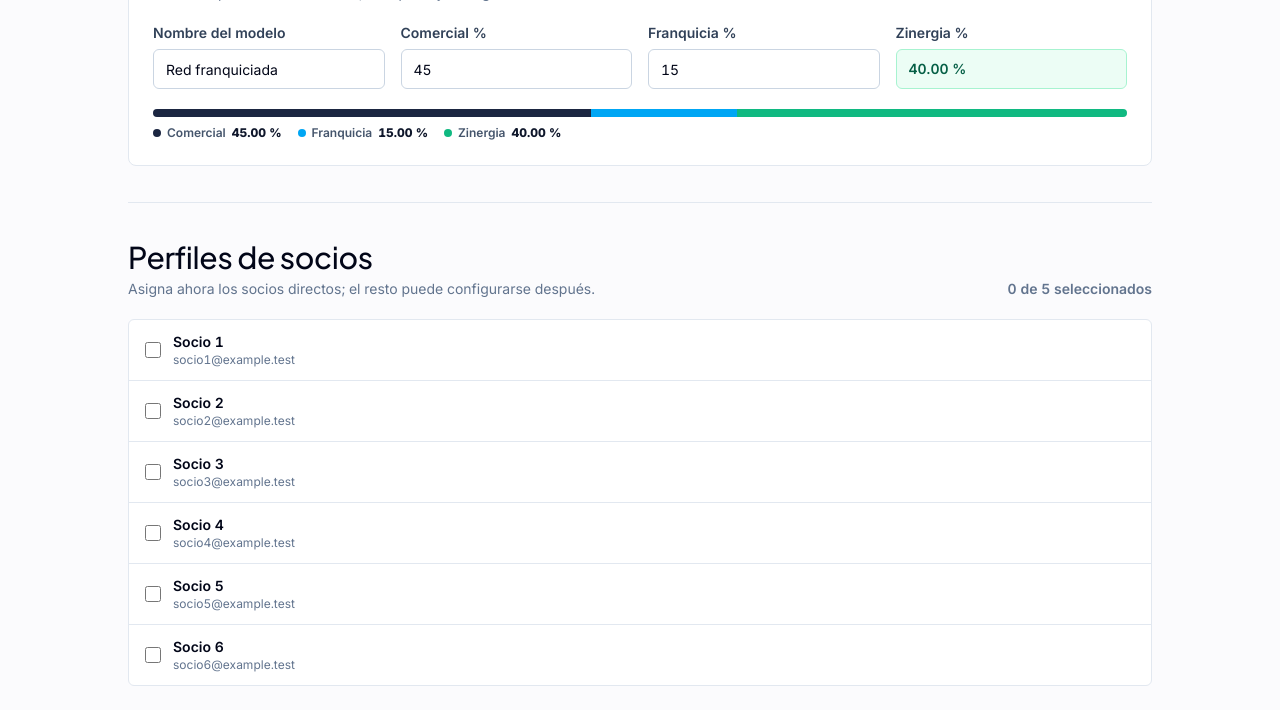
Scenario: CommissionModelSetup › limits direct-partner selection to five existing profiles
(page scrolled)
Click the checkbox labelled "Socio 1 socio1@example.test" at (153, 350), box [145,342,161,358]
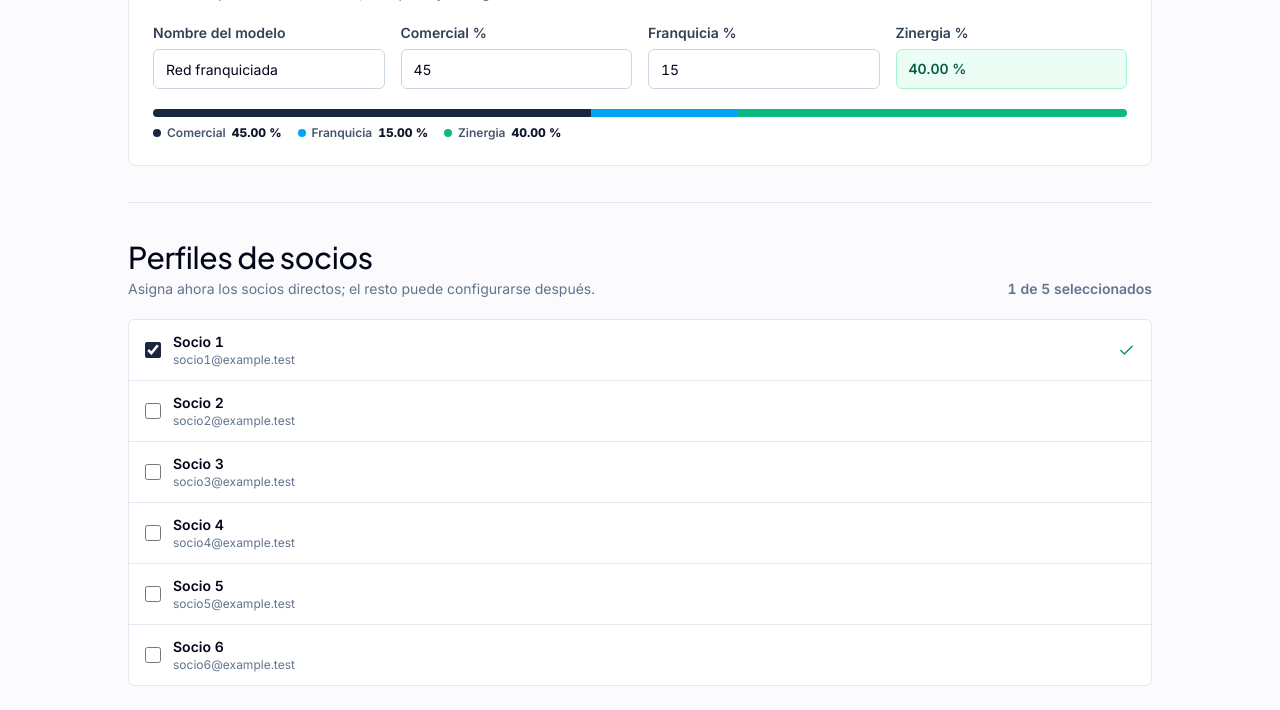
Click the checkbox labelled "Socio 2 socio2@example.test" at (153, 411), box [145,403,161,419]
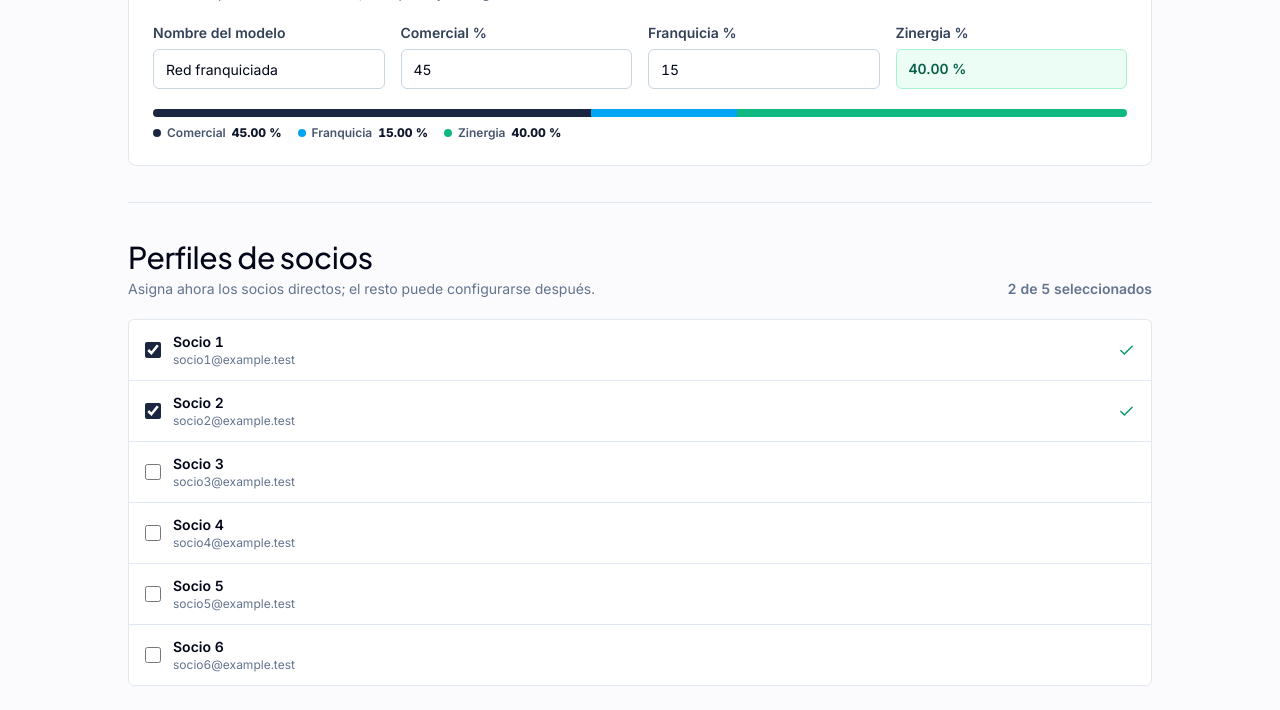
Click the checkbox labelled "Socio 3 socio3@example.test" at (153, 472), box [145,464,161,480]
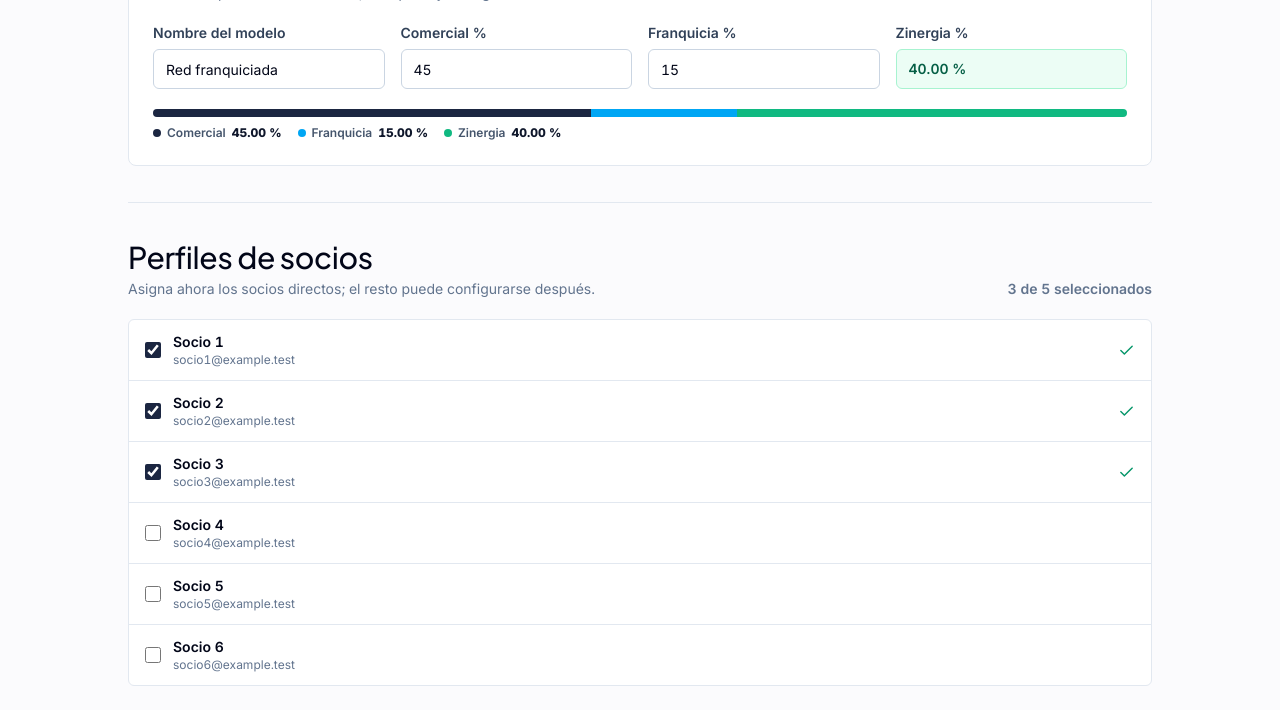
Click the checkbox labelled "Socio 4 socio4@example.test" at (153, 533), box [145,525,161,541]
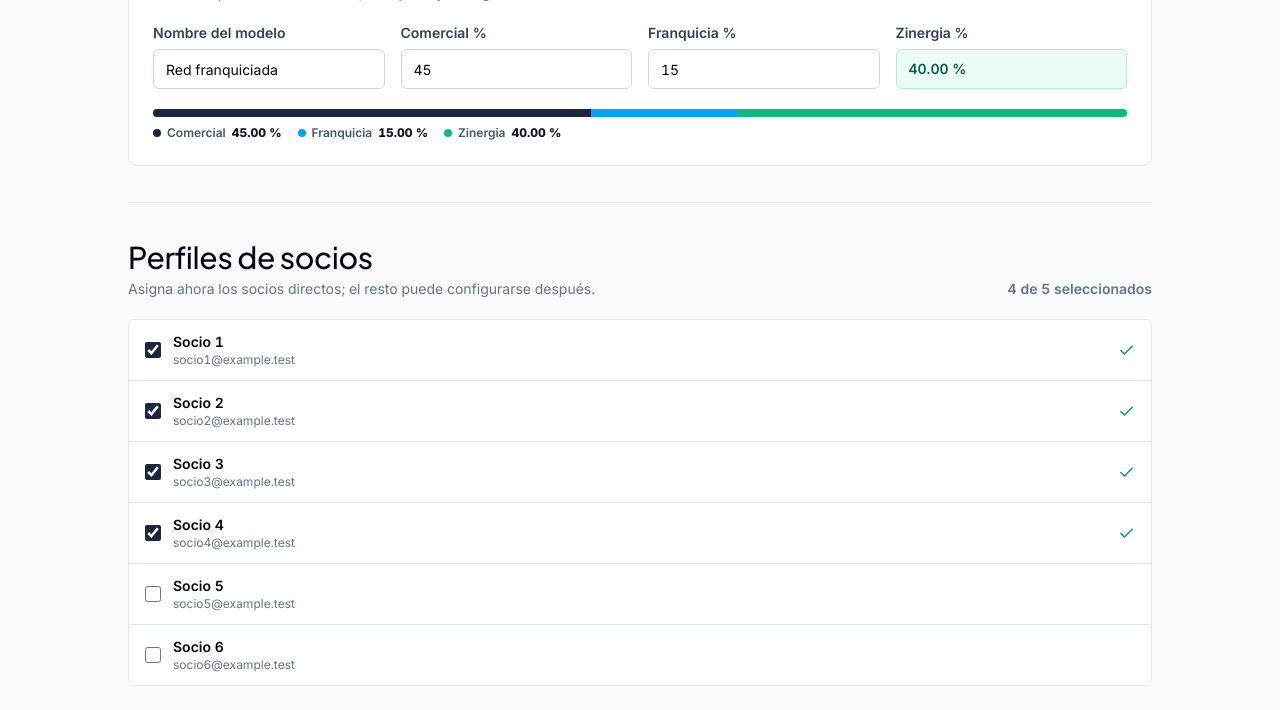
Click the checkbox labelled "Socio 5 socio5@example.test" at (153, 594), box [145,586,161,602]
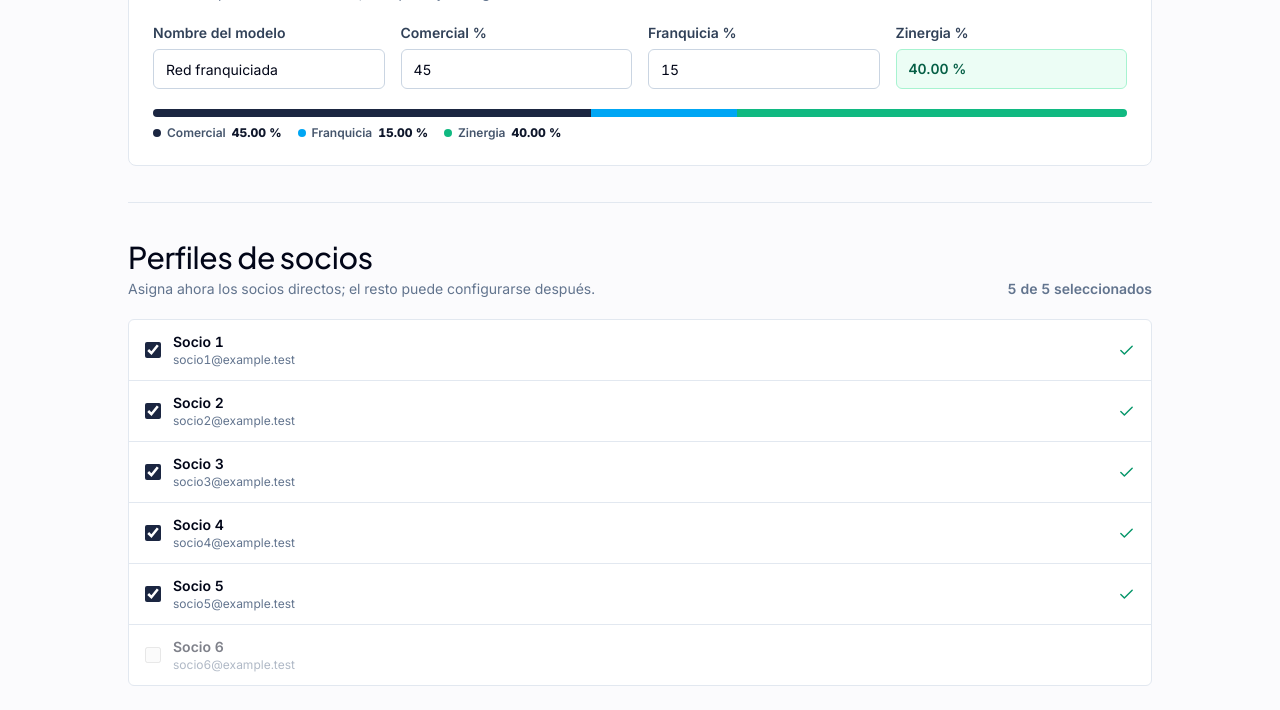
Check: the text "5 de 5 seleccionados" is shown, box [1008,279,1152,299]
